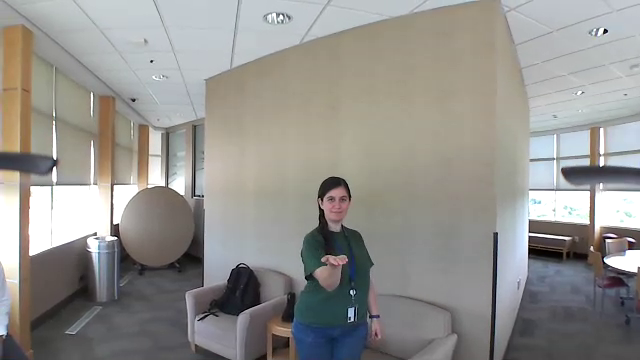land: (317, 254, 353, 269)
